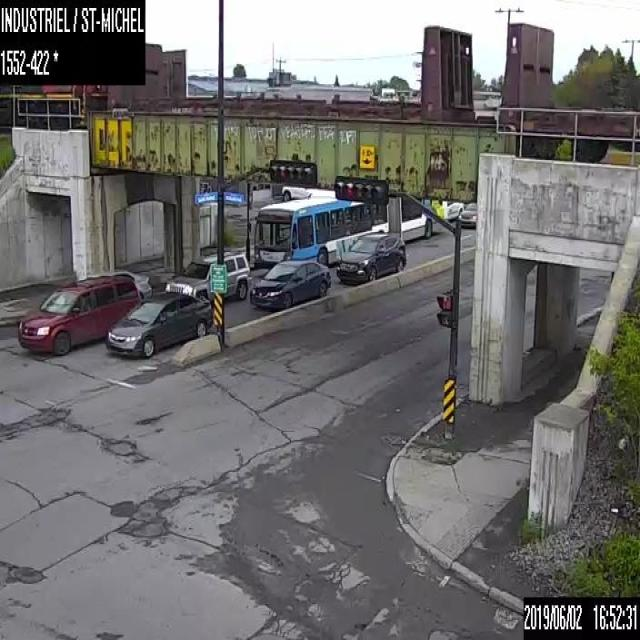bus: (253, 192, 448, 268)
vehicle: (17, 274, 141, 354), (106, 290, 212, 358), (165, 249, 249, 302), (250, 260, 331, 309), (336, 233, 406, 282), (86, 268, 151, 301), (456, 201, 476, 227), (281, 184, 315, 199), (446, 199, 465, 220)
